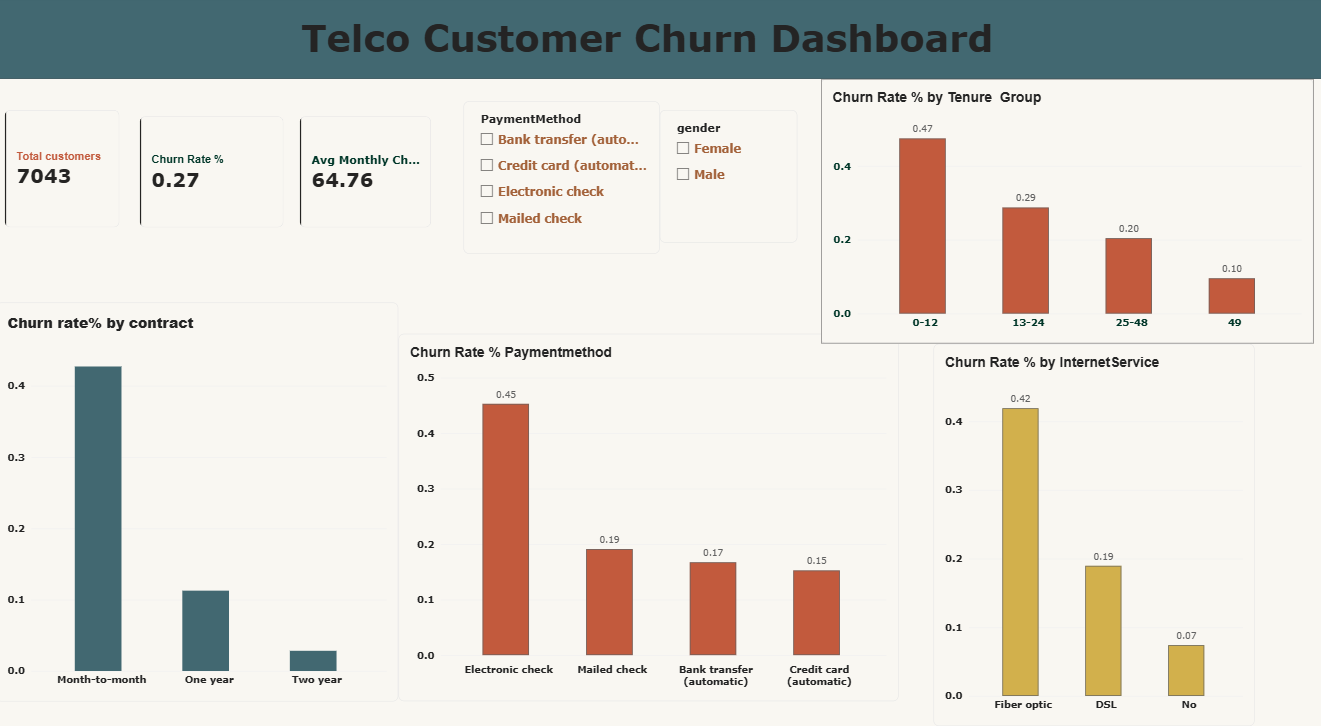

Layout of this report page (visuals, bound fields, positions):
{"tool":"powerbi","page":{"name":"Page 1","canvas":[1920,1080],"ordinal":0},"visuals":[{"type":"cardVisual","fields":{"Data":["Telco customer churn cleaned.Churn Rate %"]},"box":[208.1,175.5,208.1,161.1],"z":0},{"type":"cardVisual","fields":{"Data":["Telco customer churn cleaned.Avg Monthly Charges"]},"box":[439.7,175.5,190,161.1],"z":1000},{"type":"cardVisual","title":"Total Customers","fields":{"Data":["Telco customer churn cleaned.Total mem"]},"box":[12.7,166.5,166.5,170.1],"z":2000},{"type":"clusteredColumnChart","title":"Churn rate% by contract","fields":{"Category":["Telco customer churn cleaned.Contract"],"Y":["Telco customer churn cleaned.Churn Rate %"]},"box":[0,445.2,582.7,577.3],"z":3000},{"type":"clusteredColumnChart","title":"Churn Rate % Paymentmethod","fields":{"Category":["Telco customer churn cleaned.PaymentMethod"],"Y":["Telco customer churn cleaned.Churn Rate %"]},"box":[582.7,490.4,723.9,532],"z":5000},{"type":"clusteredColumnChart","fields":{"Category":["Telco customer churn cleaned.InternetService"],"Y":["Telco customer churn cleaned.Churn Rate %"]},"box":[1357.2,504.9,465.1,553.8],"z":6000},{"type":"clusteredColumnChart","fields":{"Category":["Telco customer churn cleaned.Tenure  Group"],"Y":["Telco customer churn cleaned.Churn Rate %"]},"box":[1194.4,121.2,713,383.6],"z":7000},{"type":"slicer","fields":{"Values":["Telco customer churn cleaned.gender"]},"box":[960.9,166.5,199.1,191.8],"z":8000},{"type":"slicer","fields":{"Values":["Telco customer churn cleaned.PaymentMethod"]},"box":[676.8,153.8,284.1,220.8],"z":9000},{"type":"textbox","box":[1415,487,150,157],"z":11000},{"type":"shape","box":[0,0,1920.1,121.2],"z":12000},{"type":"textbox","box":[338.4,29,1227,72.4],"z":12001}]}

Visuals, with their boxes in screenshot pixels (x1, y1, x2, y2), scaled from the page's 1920x1080 canvas onto the 1321x726 screenshot:
cardVisual - Telco customer churn cleaned.Churn Rate %: BBox(143, 118, 286, 226)
cardVisual - Telco customer churn cleaned.Avg Monthly Charges: BBox(303, 118, 433, 226)
"Total Customers" cardVisual: BBox(9, 112, 123, 226)
"Churn rate% by contract" clusteredColumnChart: BBox(0, 299, 401, 687)
"Churn Rate % Paymentmethod" clusteredColumnChart: BBox(401, 330, 899, 687)
clusteredColumnChart - Telco customer churn cleaned.InternetService x Telco customer churn cleaned.Churn Rate %: BBox(934, 339, 1254, 712)
clusteredColumnChart - Telco customer churn cleaned.Tenure  Group x Telco customer churn cleaned.Churn Rate %: BBox(822, 81, 1312, 339)
slicer - Telco customer churn cleaned.gender: BBox(661, 112, 798, 241)
slicer - Telco customer churn cleaned.PaymentMethod: BBox(466, 103, 661, 252)
textbox: BBox(974, 327, 1077, 433)
shape: BBox(0, 0, 1320, 81)
textbox: BBox(233, 19, 1077, 68)
